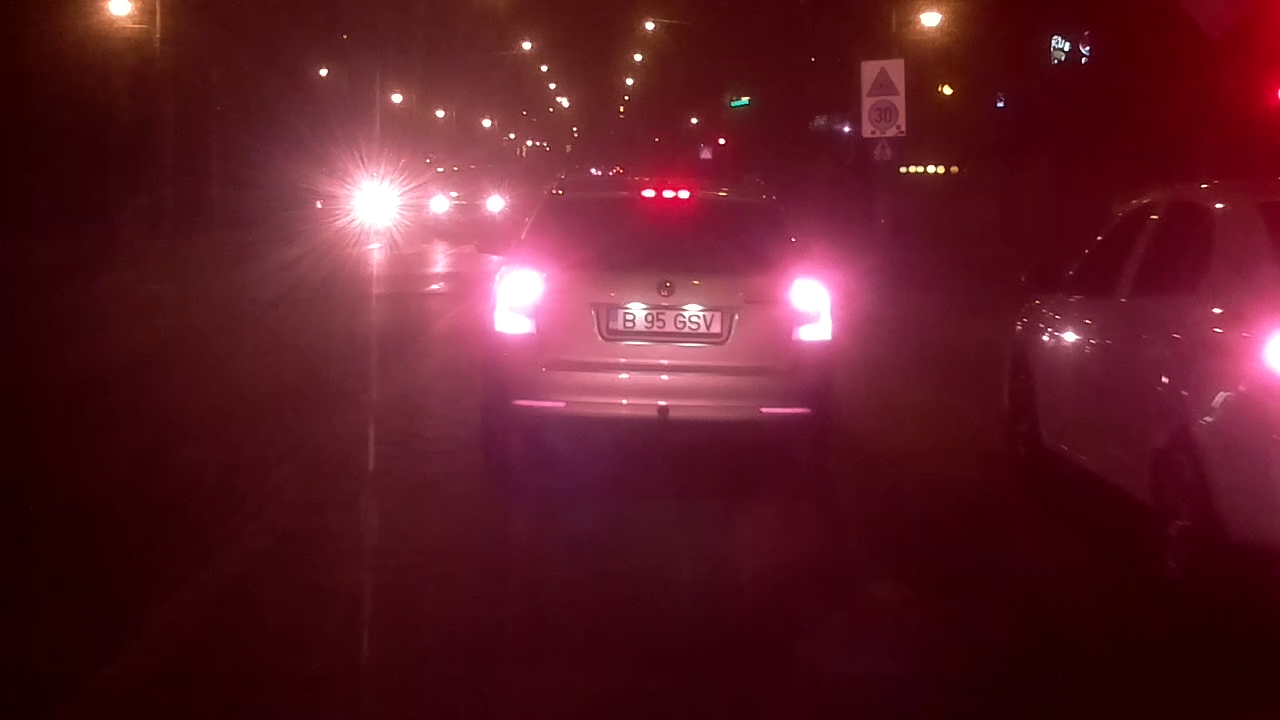license-plate: (601, 303, 729, 339)
